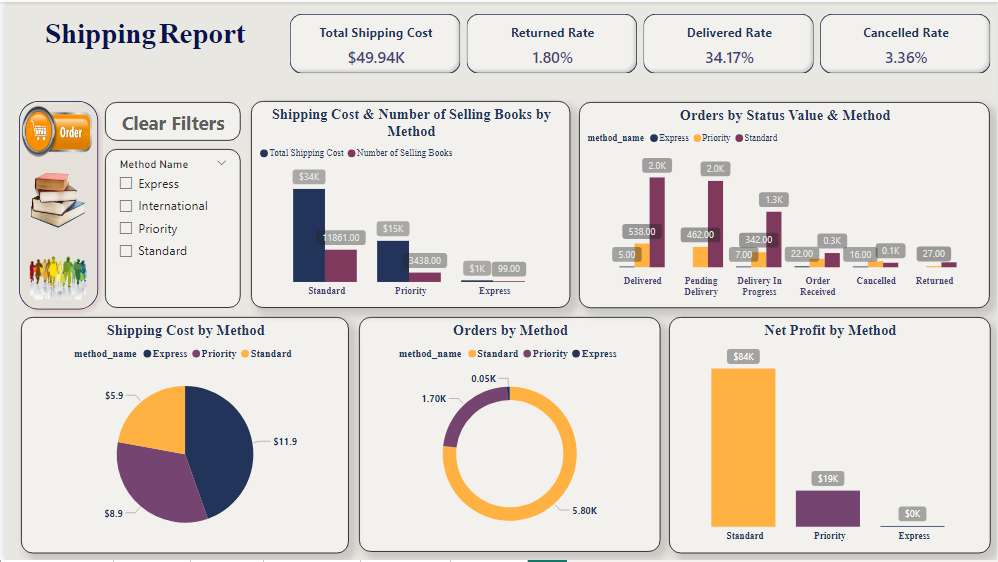

The dashboard page shown, as its layout file describes it:
{"tool":"powerbi","page":{"name":"Shipping","canvas":[1280,720],"ordinal":4},"visuals":[{"type":"cardVisual","fields":{"Data":["Dax.Total Shipping Cost","Dax.Returned Rate","Dax.Delivered Rate","Dax.Cancelled Rate"]},"box":[362,9.8,917.8,87.1],"z":0},{"type":"donutChart","title":" Orders by Method","fields":{"Category":["Shipping_Dim.method_name"],"Y":["Dax.No . Orders"]},"box":[456.2,406.2,389,303.2],"z":1000},{"type":"pieChart","title":"Shipping Cost by Method","fields":{"Category":["Shipping_Dim.method_name"],"Y":["Max(FactTable.Shipping_Cost)"]},"box":[20,406.2,423.3,304.6],"z":2000},{"type":"clusteredColumnChart","title":"Shipping Cost & Number of Selling Books by Method","fields":{"Category":["Shipping_Dim.method_name"],"Y":["Dax.Total Shipping Cost","Dax.Number of Selling Books"]},"box":[317.8,127.6,412.3,267.5],"z":3000},{"type":"clusteredColumnChart","title":" Orders by Status Value & Method","fields":{"Category":["FactTable.Status_value"],"Series":["Shipping_Dim.method_name"],"Y":["Dax.No . Orders"]},"box":[741.1,128.8,530.1,266.3],"z":4000},{"type":"clusteredColumnChart","title":"Net Profit by Method","fields":{"Category":["Shipping_Dim.method_name"],"Y":["Dax.Net Profit"]},"box":[856.7,406.2,414.7,304.6],"z":5000},{"type":"shape","box":[8.6,119,120.2,287.1],"z":6000},{"type":"image","title":"books","box":[27.2,211.7,82.9,85.8],"z":7000},{"type":"textbox","box":[0,14.3,361.8,68.6],"z":8000},{"type":"image","box":[27.2,288.9,82.9,100.1],"z":9000},{"type":"image","title":"orders","box":[17.2,128.7,101.5,78.7],"z":10000},{"type":"slicer","fields":{"Values":["Shipping_Dim.method_name"]},"box":[128.8,190.2,175.5,204.9],"z":11000},{"type":"actionButton","box":[128.8,128.8,175.5,50.3],"z":12000}]}

Visuals, with their boxes in screenshot pixels (x1, y1, x2, y2), scaled from the page's 1280x720 canvas onto the 998x562 screenshot:
cardVisual - Dax.Total Shipping Cost x Dax.Returned Rate: 282, 8, 997, 76
" Orders by Method" donutChart: 356, 317, 659, 554
"Shipping Cost by Method" pieChart: 16, 317, 346, 555
"Shipping Cost & Number of Selling Books by Method" clusteredColumnChart: 248, 100, 569, 308
" Orders by Status Value & Method" clusteredColumnChart: 578, 101, 991, 308
"Net Profit by Method" clusteredColumnChart: 668, 317, 991, 555
shape: 7, 93, 100, 317
"books" image: 21, 165, 86, 232
textbox: 0, 11, 282, 65
image: 21, 226, 86, 304
"orders" image: 13, 100, 93, 162
slicer - Shipping_Dim.method_name: 100, 148, 237, 308
actionButton: 100, 101, 237, 140
